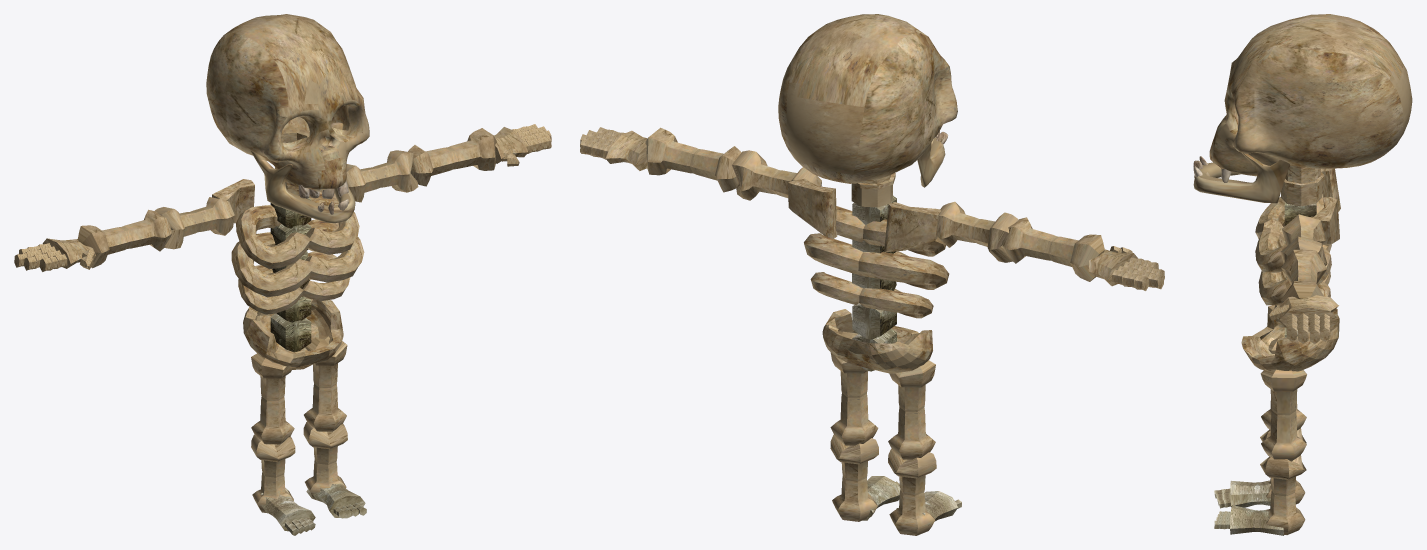
File: Skelly-Jaw-1.fbx
The picture shows the model from 3 angles, left to right: view 1: azimuth 30°, elevation 25°; view 2: azimuth 150°, elevation 25°; view 3: azimuth 270°, elevation 25°; orthographic projection. The views are drawn at different scales.
Visible parts, largest first — view 1: skull_low_poly:Group17420, pasted__polySurface22, pasted__polySurface24, pasted__polySurface77, pasted__polySurface73, pasted__polySurface74, pasted__pasted__pasted__pasted__polySurface1, pasted__pasted__pasted__pasted__pasted__polySurface1, pasted__Jaw, polySurface1, polySurface2, pasted__polySurface32 (+8 smaller); view 2: skull_low_poly:Group17420, pasted__polySurface77, pasted__polySurface24, pasted__polySurface74, pasted__polySurface73, pasted__pasted__pasted__pasted__polySurface1, pasted__pasted__polySurface2, pasted__pasted__pasted__polySurface2, pasted__polySurface32, pasted__pasted__pasted__pasted__pasted__polySurface1, polySurface2, polySurface1 (+10 smaller); view 3: skull_low_poly:Group17420, pasted__polySurface77, pasted__pasted__pasted__pasted__pasted__polySurface1, pasted__Jaw, pasted__pasted__pasted__polySurface2, pasted__polySurface22, pasted__polySurface73, pasted__pCylinder5, polySurface1, pasted__polySurface11, pasted__polySurface24, pasted__pasted__polySurface11 (+7 smaller).
Part boxes in pixels (left/top/right/bottom): skull_low_poly:Group17420: left=206, top=14, right=369, bottom=191; pasted__polySurface22: left=236, top=191, right=359, bottom=269; pasted__polySurface24: left=231, top=219, right=364, bottom=297; pasted__polySurface77: left=243, top=299, right=343, bottom=369; pasted__polySurface73: left=407, top=128, right=496, bottom=186; pasted__polySurface74: left=78, top=209, right=171, bottom=268; pasted__pasted__pasted__pasted__polySurface1: left=251, top=347, right=294, bottom=444; pasted__pasted__pasted__pasted__pasted__polySurface1: left=304, top=336, right=347, bottom=431; pasted__Jaw: left=250, top=122, right=355, bottom=223; polySurface1: left=346, top=150, right=418, bottom=202; polySurface2: left=155, top=197, right=234, bottom=249; pasted__polySurface32: left=238, top=251, right=350, bottom=314; skull_low_poly:Group17420: left=778, top=14, right=957, bottom=183; pasted__polySurface77: left=822, top=309, right=932, bottom=373; pasted__polySurface24: left=804, top=233, right=949, bottom=289; pasted__polySurface74: left=1001, top=217, right=1104, bottom=281; pasted__polySurface73: left=645, top=127, right=741, bottom=192; pasted__pasted__pasted__pasted__polySurface1: left=888, top=360, right=935, bottom=459; pasted__pasted__polySurface2: left=888, top=448, right=936, bottom=535; pasted__pasted__pasted__polySurface2: left=830, top=434, right=878, bottom=521; pasted__polySurface32: left=810, top=272, right=933, bottom=318; pasted__pasted__pasted__pasted__pasted__polySurface1: left=830, top=352, right=878, bottom=445; polySurface2: left=936, top=201, right=1018, bottom=262; polySurface1: left=732, top=150, right=821, bottom=200; skull_low_poly:Group17420: left=1209, top=14, right=1412, bottom=176; pasted__polySurface77: left=1241, top=305, right=1339, bottom=371; pasted__pasted__pasted__pasted__pasted__polySurface1: left=1260, top=369, right=1306, bottom=461; pasted__Jaw: left=1193, top=153, right=1289, bottom=203; pasted__pasted__pasted__polySurface2: left=1260, top=455, right=1306, bottom=534; pasted__polySurface22: left=1255, top=194, right=1323, bottom=272; pasted__polySurface73: left=1281, top=249, right=1326, bottom=302; pasted__pCylinder5: left=1281, top=165, right=1324, bottom=206; polySurface1: left=1280, top=214, right=1327, bottom=265; pasted__polySurface11: left=1279, top=295, right=1338, bottom=331; pasted__polySurface24: left=1258, top=226, right=1331, bottom=305; pasted__pasted__polySurface11: left=1230, top=505, right=1283, bottom=535.
Size of the model in its own units: 17.42 by 14.85 by 5.91.
9 materials, 9 textured.
